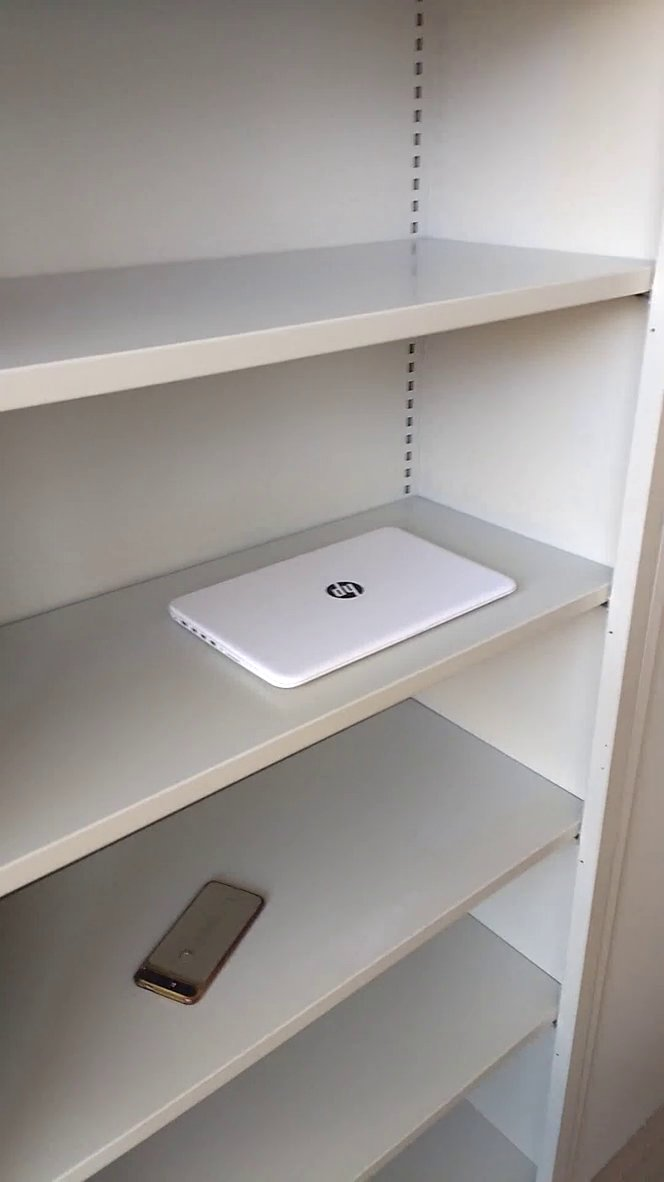laptop: (164, 520, 523, 694)
phone: (127, 870, 279, 1011)
